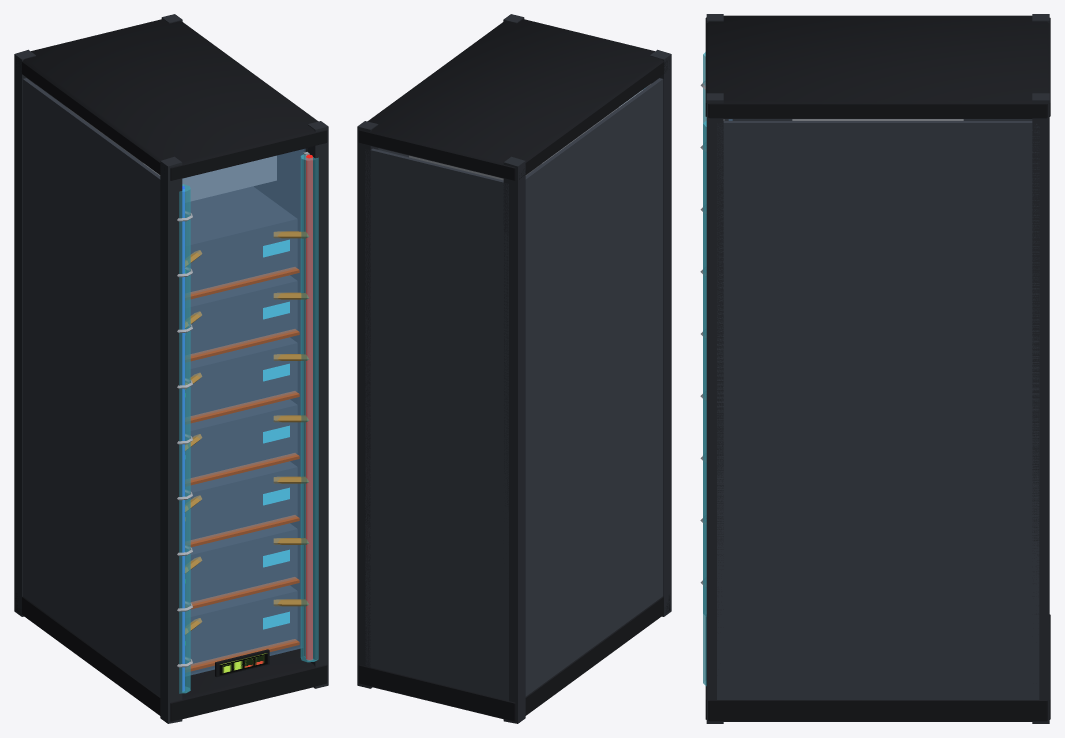
The model's file is rack_liquid_cooled_cabinet.glb.
3 views of the same model, side by side, from view 1: azimuth 30°, elevation 25°; view 2: azimuth 150°, elevation 25°; view 3: azimuth 270°, elevation 25° (orthographic). The views are drawn at different scales.
Parts seen in each view (by area): view 1: rack_liquid_cooled_cabinet; view 2: rack_liquid_cooled_cabinet; view 3: rack_liquid_cooled_cabinet.
Boxes of the visible parts, x1,y1,x2,y2 form: rack_liquid_cooled_cabinet: (14,14,328,723); rack_liquid_cooled_cabinet: (357,14,671,723); rack_liquid_cooled_cabinet: (700,14,1050,723).
Size of the model in its own units: 0.606 by 2.01 by 1.02.
15 materials, 1 textured.
